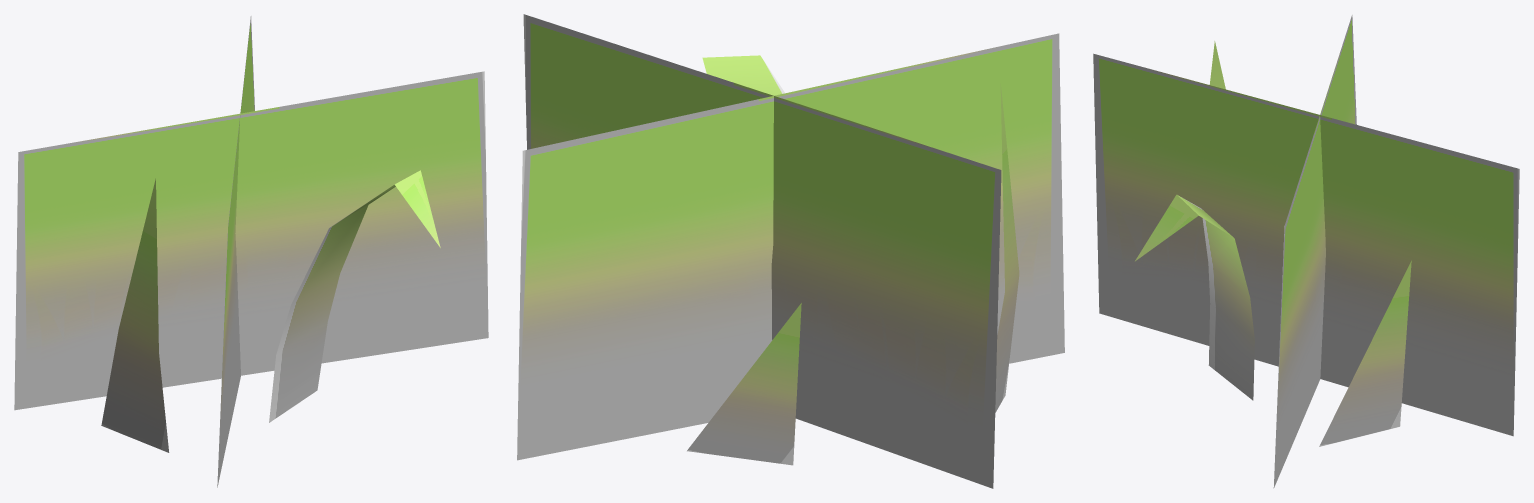
The model's file is grass.glb.
3 renders of one model, left to right at view 1: azimuth 30°, elevation 25°; view 2: azimuth 150°, elevation 25°; view 3: azimuth 270°, elevation 25°, orthographic. The views are drawn at different scales.
Parts seen in each view (by area): view 1: grass_LOD0; view 2: grass_LOD0; view 3: grass_LOD0.
Part boxes in pixels (x1,y1,x2,y2): grass_LOD0: (14, 16, 488, 487); grass_LOD0: (517, 14, 1064, 488); grass_LOD0: (1093, 15, 1519, 488).
Size of what is drawn, in the model's own units: 0.4745 by 0.2839 by 0.4033.
1 material, 1 textured.
